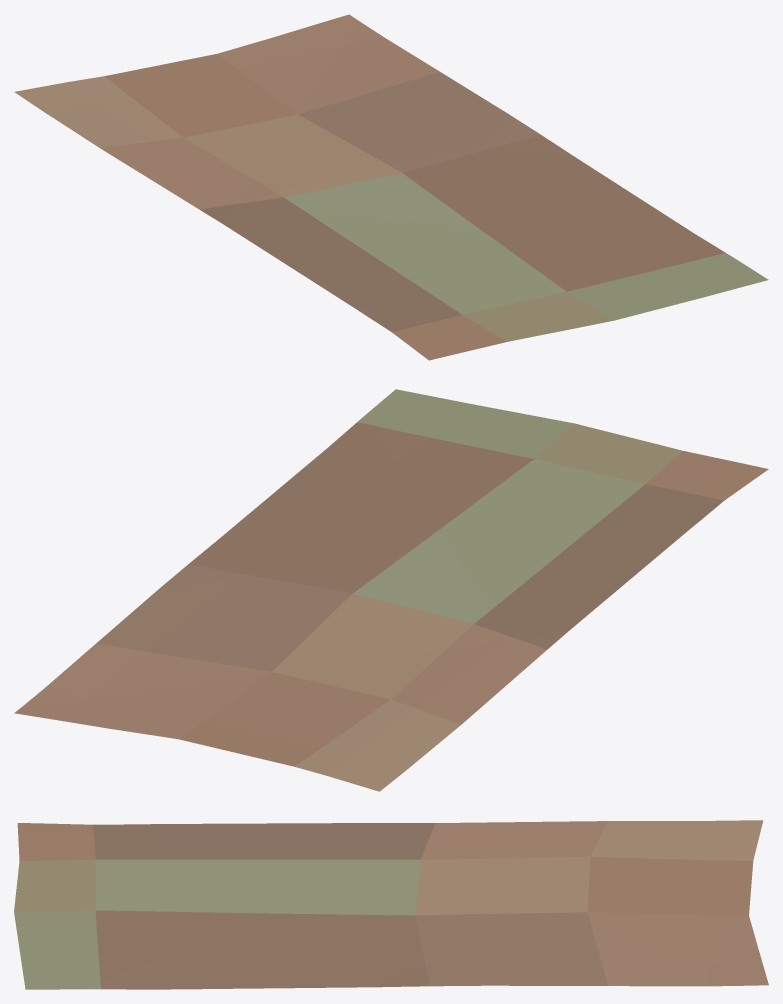
The model's file is farm_12_20_soil.glb.
3 renders of one model, top to bottom at view 1: azimuth 30°, elevation 25°; view 2: azimuth 150°, elevation 25°; view 3: azimuth 270°, elevation 25°, orthographic. The views are drawn at different scales.
Parts seen in each view (by area): view 1: geometry_0; view 2: geometry_0; view 3: geometry_0.
Part boxes in pixels (left/top/right/bottom): geometry_0: left=14, top=14, right=768, bottom=360; geometry_0: left=14, top=389, right=768, bottom=791; geometry_0: left=14, top=820, right=768, bottom=989.
Size of the model in its own units: 119 by 5.29 by 220.
